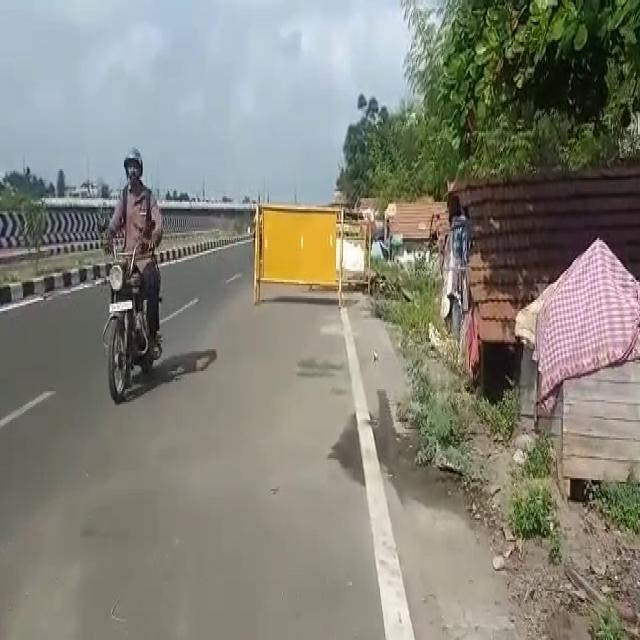fallen_object: (247, 190, 353, 308)
